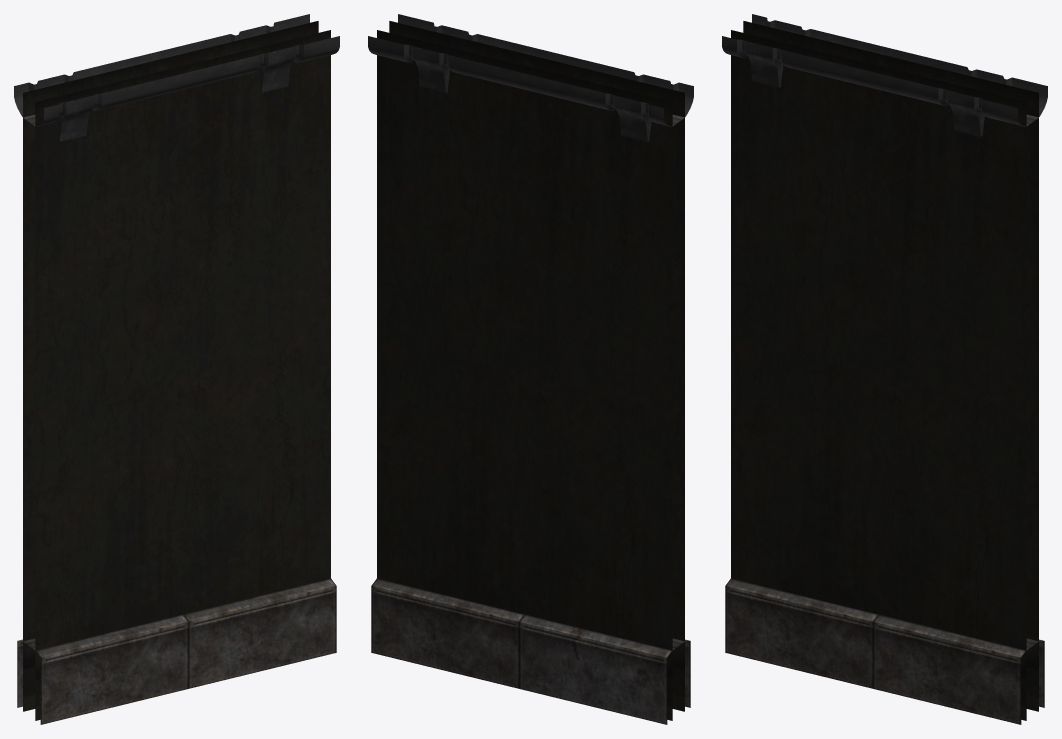
Rendered from lab_flat_glass_short.dae.
3 renders of one model, left to right at view 1: azimuth 30°, elevation 25°; view 2: azimuth 150°, elevation 25°; view 3: azimuth 330°, elevation 25°, orthographic.
Parts seen in each view (by area): view 1: glass, lab_glass_short; view 2: glass, lab_glass_short; view 3: glass, lab_glass_short.
Part boxes in pixels (bbox=[...]): glass: bbox=[23, 21, 330, 720]; lab_glass_short: bbox=[14, 14, 339, 724]; glass: bbox=[377, 21, 684, 720]; lab_glass_short: bbox=[368, 14, 693, 724]; glass: bbox=[731, 21, 1038, 720]; lab_glass_short: bbox=[722, 14, 1047, 724].
Size of the model in its own units: 2 by 4 by 0.3514.
